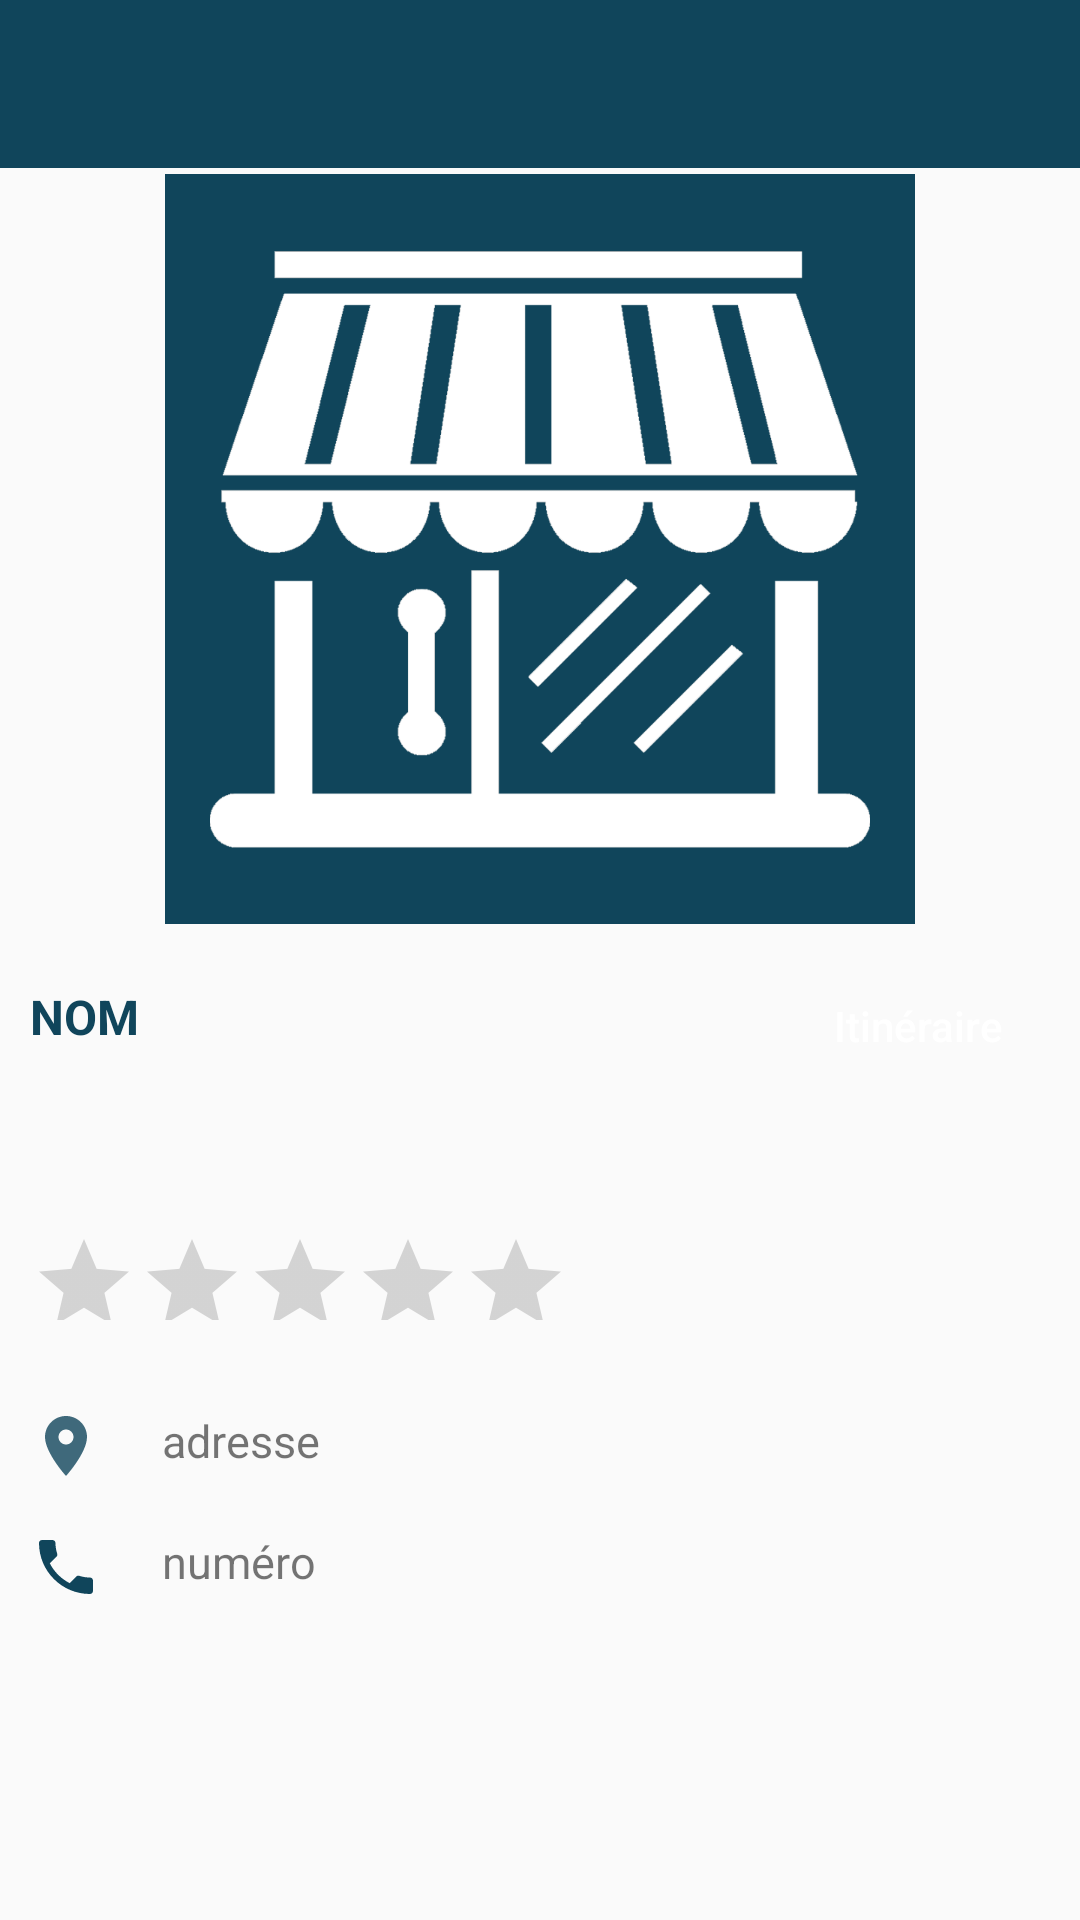

Where icons sit on this 1080x1920 app screen, as [x1,y1,x2,y2]:
phone: [39,1540,93,1594]
